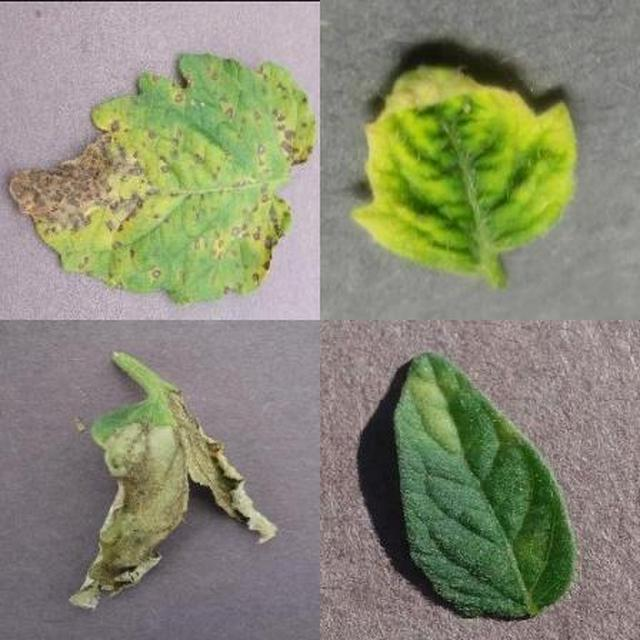Septoria Leaf: (234, 242, 640, 640)
